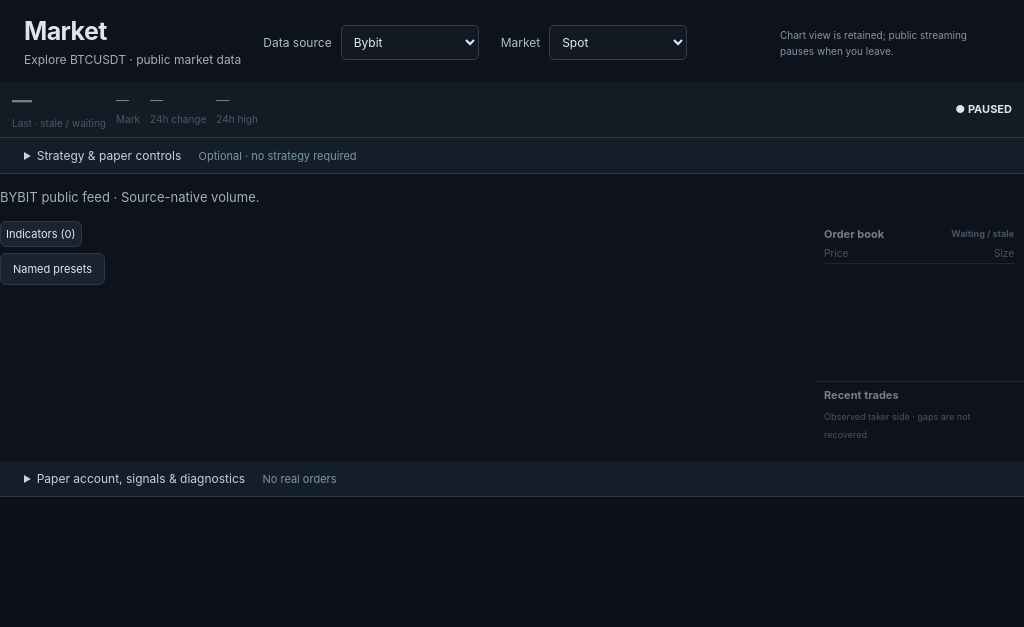
Test: rejects a late library mutation response after switching source while retaining the original draft
The image size is (1024, 627).
Step 1. Click the button "Named presets" → click(52, 269), box [0,253,105,285]
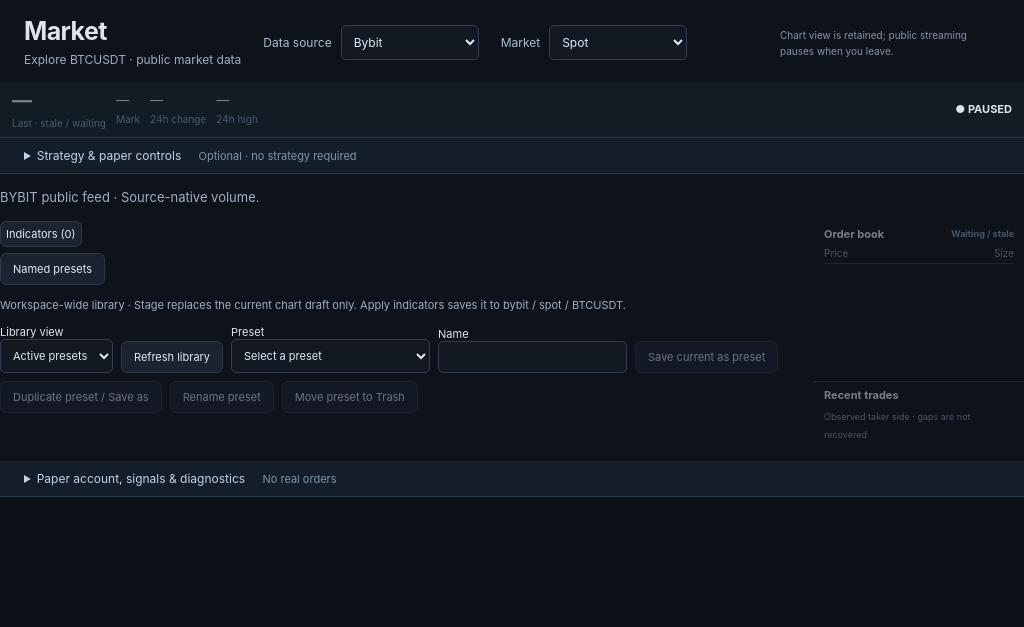
expect the dropdown named "Named indicator preset" is enabled: met
Step 2. Select "Retained research · 1 instances" in the dropdown named "Named indicator preset" → (331, 356), box [231,339,430,373]
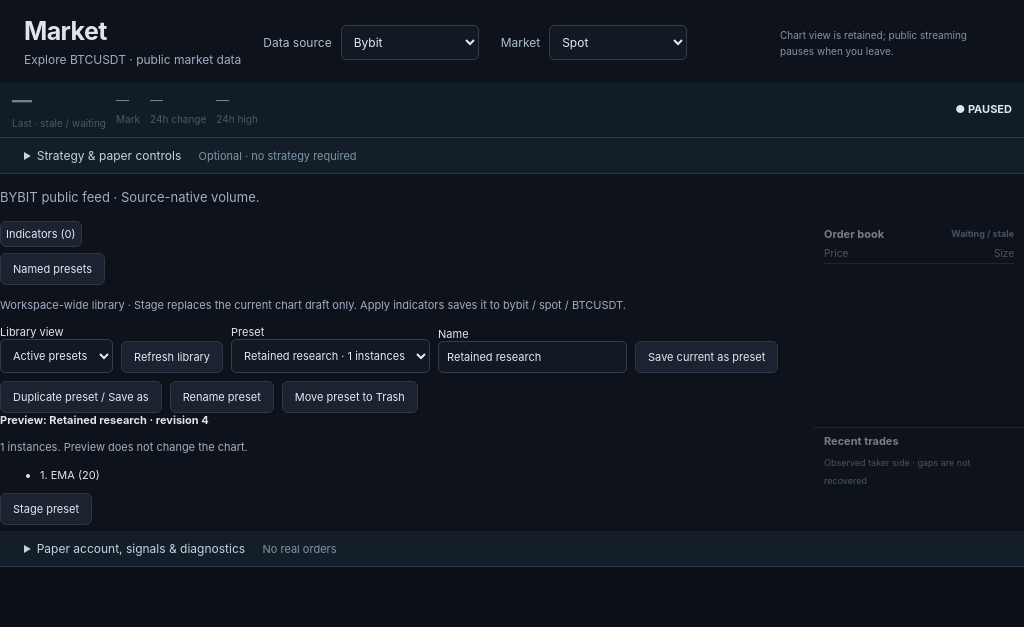
expect the element named "Preset preview" is shown: met, box [0,413,248,524]
Step 3. Click the button "Stage preset" → click(46, 508), box [0,492,92,524]
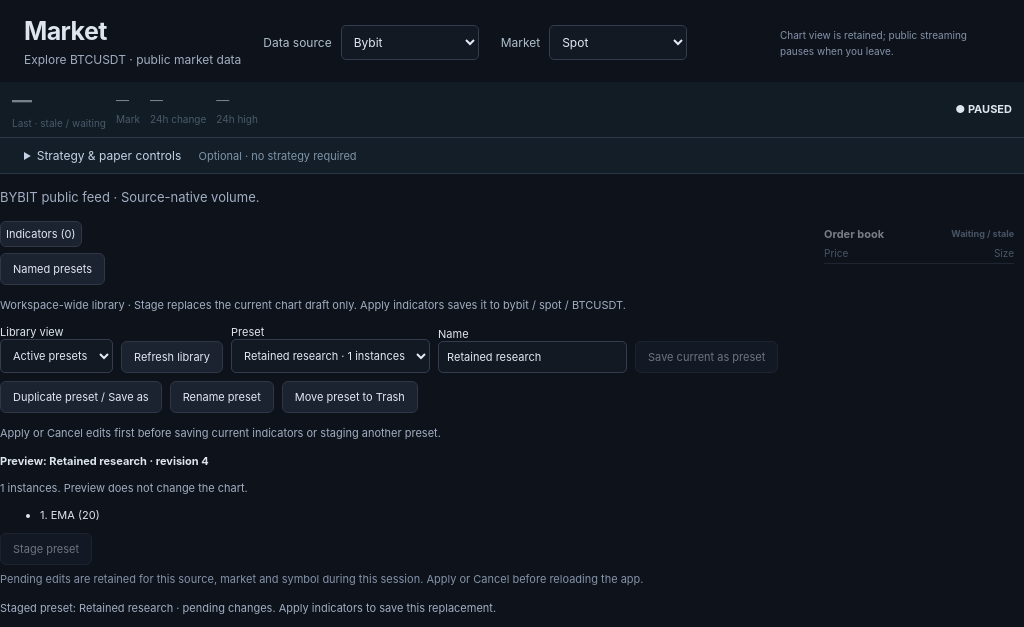
Step 4. Replace the text in the field named "Preset name" with "Renamed later" → (533, 357), box [438,341,627,373]
Step 5. Click the button "Rename preset" → click(222, 397), box [170,381,274,413]
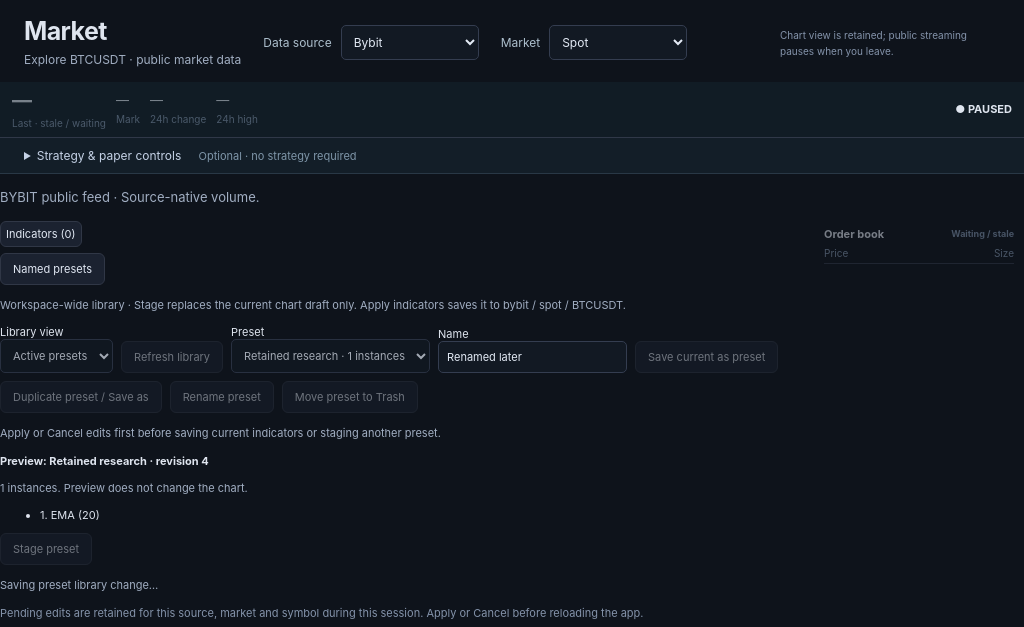
Step 6. Select "OKX" in the dropdown named "Market data source" → (410, 43), box [341,25,479,60]
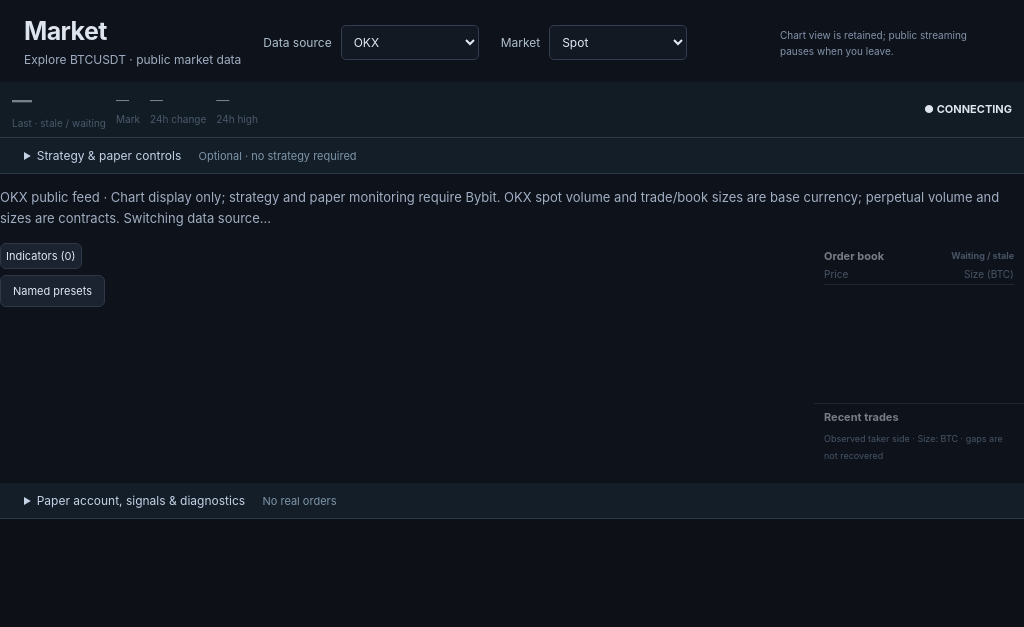
Step 7. Select "Bybit" in the dropdown named "Market data source" → (410, 43), box [341,25,479,60]
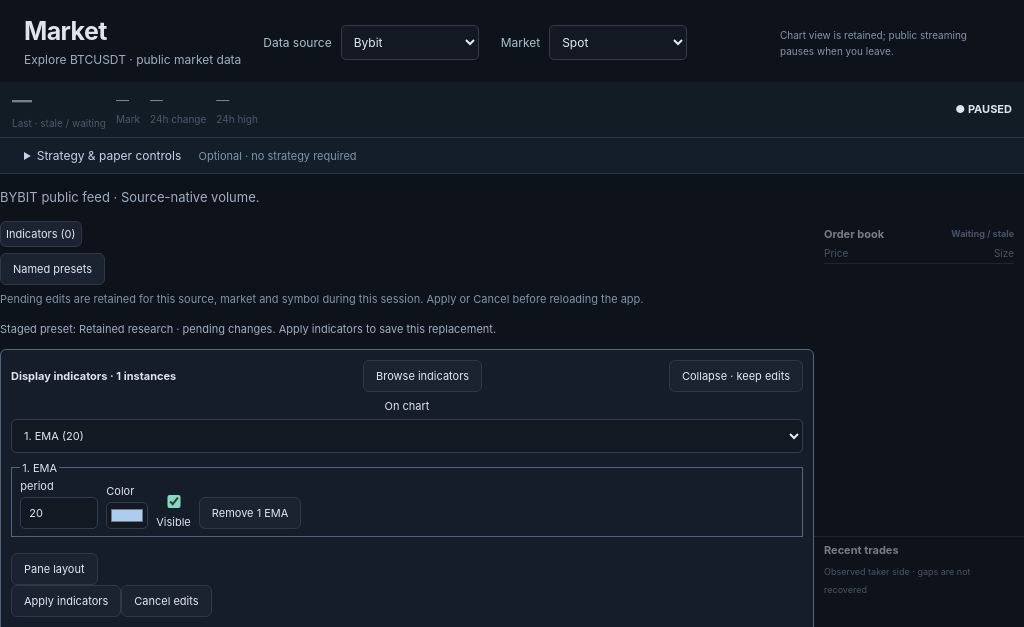
expect the text "Staged preset: Retained research" is shown: met, box [0,322,496,336]
